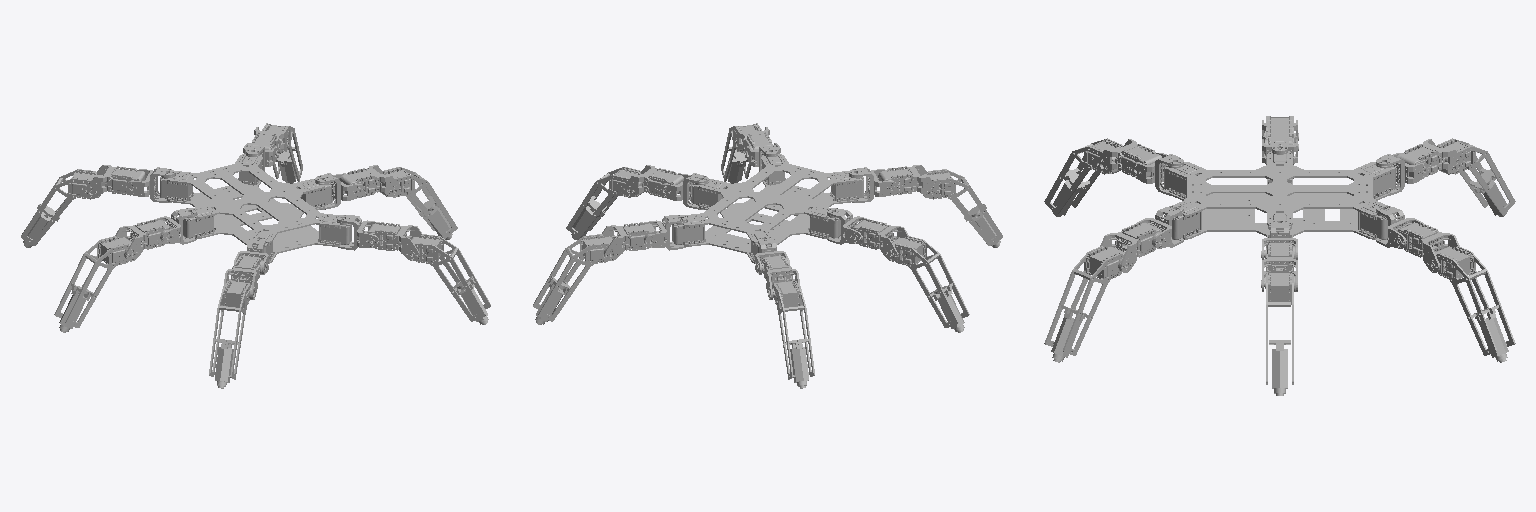
--- Facts derived from the render (not from the file) ---
Views: 3 orthographic renders of the robot side by side, from view 1: azimuth 30°, elevation 25°; view 2: azimuth 150°, elevation 25°; view 3: azimuth 270°, elevation 25°.
Robot: hexapod — 19 links, 18 joints (18 revolute); root link base_link; default pose: all joints at 0.
Visible links, largest first — view 1: base_link, leg6_link3, leg3_link3, leg5_link3, leg4_link3, leg1_link3, leg6_link2, leg3_link2, leg1_link2, leg4_link2, leg2_link3, leg5_link2 (+5 smaller); view 2: base_link, leg2_link3, leg3_link3, leg1_link3, leg4_link3, leg5_link3, leg2_link2, leg3_link2, leg5_link2, leg4_link2, leg6_link3, leg1_link2 (+6 smaller); view 3: base_link, leg6_link3, leg2_link3, leg5_link3, leg1_link3, leg4_link3, leg2_link2, leg6_link2, leg1_link2, leg5_link2, leg4_link2, leg1_link1 (+5 smaller).
Boxes of the visible links, x1,y1,x2,y2 form: base_link: [160, 154, 351, 263]; leg6_link3: [407, 234, 490, 324]; leg3_link3: [54, 236, 133, 332]; leg5_link3: [209, 281, 251, 388]; leg4_link3: [380, 167, 457, 239]; leg1_link3: [21, 169, 104, 247]; leg6_link2: [367, 222, 421, 260]; leg3_link2: [115, 220, 171, 261]; leg1_link2: [85, 165, 144, 198]; leg4_link2: [339, 165, 400, 197]; leg2_link3: [262, 123, 302, 183]; leg5_link2: [223, 256, 262, 299]; base_link: [672, 154, 863, 263]; leg2_link3: [533, 234, 616, 324]; leg3_link3: [892, 236, 969, 332]; leg1_link3: [772, 281, 814, 388]; leg4_link3: [566, 167, 643, 239]; leg5_link3: [918, 169, 1002, 247]; leg2_link2: [602, 222, 656, 260]; leg3_link2: [852, 220, 908, 261]; leg5_link2: [878, 165, 938, 198]; leg4_link2: [623, 165, 683, 197]; leg6_link3: [721, 123, 761, 183]; leg1_link2: [761, 256, 800, 299]; base_link: [1164, 148, 1395, 245]; leg6_link3: [1044, 246, 1127, 362]; leg2_link3: [1435, 246, 1515, 362]; leg5_link3: [1044, 138, 1122, 216]; leg1_link3: [1437, 138, 1515, 216]; leg4_link3: [1266, 273, 1295, 395]; leg2_link2: [1398, 223, 1459, 272]; leg6_link2: [1100, 222, 1161, 272]; leg1_link2: [1397, 139, 1463, 176]; leg5_link2: [1096, 139, 1161, 176]; leg4_link2: [1261, 243, 1297, 291]; leg1_link1: [1376, 153, 1429, 195].
Bounding box of the posed robot: 0.7023 × 0.6361 × 0.1567 m (x, y, z).
Meshes: 19 distinct files referenced, 19 mesh visuals loaded (19 binary STL).

robot.urdf — hexapod:
<?xml version="1.0" encoding="utf-8"?>
<!-- This URDF was automatically created by SolidWorks to URDF Exporter! Originally created by Stephen Brawner ([email redacted]) 
     Commit Version: 1.6.0-1-g15f4949  Build Version: 1.6.7594.29634
     For more information, please see http://wiki.ros.org/sw_urdf_exporter -->
<robot
  name="hexapod">
  <link
    name="base_link">
    <inertial>
      <origin
        xyz="1.49045863671304E-07 -0.000405077975725275 -0.000217578181018556"
        rpy="0 0 0" />
      <mass
        value="0.398507055317104" />
      <inertia
        ixx="0.000856625383676758"
        ixy="5.55539889210267E-08"
        ixz="1.12598154321323E-16"
        iyy="0.000353970607728274"
        iyz="5.54948061423538E-17"
        izz="0.00115428844590398" />
    </inertial>
    <visual>
      <origin
        xyz="0 0 0"
        rpy="0 0 0" />
      <geometry>
        <mesh
          filename="package://hexapod_walk/Hex_URDF2.SLDASM/meshes/base_link.STL" />
      </geometry>
      <material
        name="">
        <color
          rgba="0.752941176470588 0.752941176470588 0.752941176470588 1" />
      </material>
    </visual>
    <collision>
      <origin
        xyz="0 0 0"
        rpy="0 0 0" />
      <geometry>
        <mesh
          filename="package://hexapod_walk/Hex_URDF2.SLDASM/meshes/base_link.STL" />
      </geometry>
    </collision>
  </link>
  <link
    name="leg1_link1">
    <inertial>
      <origin
        xyz="-0.0180170002418232 0.018752535291974 -0.000520098314341614"
        rpy="0 0 0" />
      <mass
        value="0.0153297831154609" />
      <inertia
        ixx="5.1165211847947E-06"
        ixy="-6.44942081162194E-07"
        ixz="-9.75769693975089E-11"
        iyy="5.11678638010929E-06"
        iyz="9.61066359289127E-11"
        izz="4.47171272518642E-06" />
    </inertial>
    <visual>
      <origin
        xyz="0 0 0"
        rpy="0 0 0" />
      <geometry>
        <mesh
          filename="package://hexapod_walk/Hex_URDF2.SLDASM/meshes/leg1_link1.STL" />
      </geometry>
      <material
        name="">
        <color
          rgba="0.752941176470588 0.752941176470588 0.752941176470588 1" />
      </material>
    </visual>
    <collision>
      <origin
        xyz="0 0 0"
        rpy="0 0 0" />
      <geometry>
        <mesh
          filename="package://hexapod_walk/Hex_URDF2.SLDASM/meshes/leg1_link1.STL" />
      </geometry>
    </collision>
  </link>
  <joint
    name="leg1_hip_joint"
    type="revolute">
    <origin
      xyz="-0.07591 0.14091 0"
      rpy="0 0 0" />
    <parent
      link="base_link" />
    <child
      link="leg1_link1" />
    <axis
      xyz="0 0 1" />
    <limit
      lower="-1.57"
      upper="1.57"
      effort="10"
      velocity="100" />
  </joint>
  
  <transmission name="leg1_hip_joint">
    <type>transmission_interface/SimpleTransmission</type>
    <actuator name="$leg1_hip_motor">
      <mechanicalReduction>1</mechanicalReduction>
    </actuator>
    <joint name="leg1_hip_joint">
      <hardwareInterface>PositionJointInterface</hardwareInterface>
    </joint>
  </transmission>
  
  <link
    name="leg1_link2">
    <inertial>
      <origin
        xyz="-0.0144780692009271 0.0138350441980288 -0.00064755576517848"
        rpy="0 0 0" />
      <mass
        value="0.0549729697480829" />
      <inertia
        ixx="1.18174808048987E-05"
        ixy="3.67806190798473E-07"
        ixz="-2.1692108874973E-07"
        iyy="1.15984737913807E-05"
        iyz="2.1728032771257E-07"
        izz="1.65909216038039E-05" />
    </inertial>
    <visual>
      <origin
        xyz="0 0 0"
        rpy="0 0 0" />
      <geometry>
        <mesh
          filename="package://hexapod_walk/Hex_URDF2.SLDASM/meshes/leg1_link2.STL" />
      </geometry>
      <material
        name="">
        <color
          rgba="0.752941176470588 0.752941176470588 0.752941176470588 1" />
      </material>
    </visual>
    <collision>
      <origin
        xyz="0 0 0"
        rpy="0 0 0" />
      <geometry>
        <mesh
          filename="package://hexapod_walk/Hex_URDF2.SLDASM/meshes/leg1_link2.STL" />
      </geometry>
    </collision>
  </link>
  <joint
    name="leg1_knee_joint"
    type="revolute">
    <origin
      xyz="-0.03677 0.03677 0"
      rpy="0 0 0" />
    <parent
      link="leg1_link1" />
    <child
      link="leg1_link2" />
    <axis
      xyz="-0.70711 -0.70711 0" />
    <limit
      lower="-1.57"
      upper="1.57"
      effort="10"
      velocity="100" />
  </joint>
  
  <transmission name="leg1_knee_joint">
    <type>transmission_interface/SimpleTransmission</type>
    <actuator name="$leg1_knee_joint">
      <mechanicalReduction>1</mechanicalReduction>
    </actuator>
    <joint name="leg1_knee_joint">
      <hardwareInterface>PositionJointInterface</hardwareInterface>
    </joint>
  </transmission>
  
  <link
    name="leg1_link3">
    <inertial>
      <origin
        xyz="-0.0308004685179728 0.0302080850392637 -0.0292125400897702"
        rpy="0 0 0" />
      <mass
        value="0.0782413429576377" />
      <inertia
        ixx="3.25063556942522E-05"
        ixy="6.21445767713284E-06"
        ixz="-7.5922039407356E-06"
        iyy="3.22872779020944E-05"
        iyz="7.59259502067018E-06"
        izz="2.34916838689469E-05" />
    </inertial>
    <visual>
      <origin
        xyz="0 0 0"
        rpy="0 0 0" />
      <geometry>
        <mesh
          filename="package://hexapod_walk/Hex_URDF2.SLDASM/meshes/leg1_link3.STL" />
      </geometry>
      <material
        name="">
        <color
          rgba="0.752941176470588 0.752941176470588 0.752941176470588 1" />
      </material>
    </visual>
    <collision>
      <origin
        xyz="0 0 0"
        rpy="0 0 0" />
      <geometry>
        <mesh
          filename="package://hexapod_walk/Hex_URDF2.SLDASM/meshes/leg1_link3.STL" />
      </geometry>
    </collision>
  </link>
  <joint
    name="Leg1_ankle_joint"
    type="revolute">
    <origin
      xyz="-0.045608 0.045608 -0.0145"
      rpy="0 0 0" />
    <parent
      link="leg1_link2" />
    <child
      link="leg1_link3" />
    <axis
      xyz="-0.70711 -0.70711 0" />
    <limit
      lower="-3.14"
      upper="3.14"
      effort="10"
      velocity="100" />
  </joint>
  
  <transmission name="Leg1_ankle_joint">
    <type>transmission_interface/SimpleTransmission</type>
    <actuator name="$Leg1_ankle_joint">
      <mechanicalReduction>1</mechanicalReduction>
    </actuator>
    <joint name="Leg1_ankle_joint">
      <hardwareInterface>PositionJointInterface</hardwareInterface>
    </joint>
  </transmission>
  
  <link
    name="leg2_link1">
    <inertial>
      <origin
        xyz="0.018752535291974 0.0180170002418231 -0.000520098314341594"
        rpy="0 0 0" />
      <mass
        value="0.0153297831154608" />
      <inertia
        ixx="5.11678638010928E-06"
        ixy="6.44942081162191E-07"
        ixz="9.61066359301862E-11"
        iyy="5.11652118479468E-06"
        iyz="9.75769693992677E-11"
        izz="4.47171272518641E-06" />
    </inertial>
    <visual>
      <origin
        xyz="0 0 0"
        rpy="0 0 0" />
      <geometry>
        <mesh
          filename="package://hexapod_walk/Hex_URDF2.SLDASM/meshes/leg2_link1.STL" />
      </geometry>
      <material
        name="">
        <color
          rgba="0.752941176470588 0.752941176470588 0.752941176470588 1" />
      </material>
    </visual>
    <collision>
      <origin
        xyz="0 0 0"
        rpy="0 0 0" />
      <geometry>
        <mesh
          filename="package://hexapod_walk/Hex_URDF2.SLDASM/meshes/leg2_link1.STL" />
      </geometry>
    </collision>
  </link>
  <joint
    name="leg2_hip_joint"
    type="revolute">
    <origin
      xyz="0.07591 0.14091 0"
      rpy="0 0 0" />
    <parent
      link="base_link" />
    <child
      link="leg2_link1" />
    <axis
      xyz="0 0 1" />
    <limit
      lower="-1.57"
      upper="1.57"
      effort="10"
      velocity="100" />
  </joint>
  <link
    name="leg2_link2">
    <inertial>
      <origin
        xyz="0.0138350441980606 0.0144780692008938 -0.00064755576516918"
        rpy="0 0 0" />
      <mass
        value="0.0549729697479026" />
      <inertia
        ixx="1.15984737913327E-05"
        ixy="-3.67806190810311E-07"
        ixz="2.17280327715239E-07"
        iyy="1.18174808048933E-05"
        iyz="2.16921088739434E-07"
        izz="1.65909216037551E-05" />
    </inertial>
    <visual>
      <origin
        xyz="0 0 0"
        rpy="0 0 0" />
      <geometry>
        <mesh
          filename="package://hexapod_walk/Hex_URDF2.SLDASM/meshes/leg2_link2.STL" />
      </geometry>
      <material
        name="">
        <color
          rgba="0.752941176470588 0.752941176470588 0.752941176470588 1" />
      </material>
    </visual>
    <collision>
      <origin
        xyz="0 0 0"
        rpy="0 0 0" />
      <geometry>
        <mesh
          filename="package://hexapod_walk/Hex_URDF2.SLDASM/meshes/leg2_link2.STL" />
      </geometry>
    </collision>
  </link>
  <joint
    name="leg2_knee_joint"
    type="revolute">
    <origin
      xyz="0.03677 0.03677 0"
      rpy="0 0 0" />
    <parent
      link="leg2_link1" />
    <child
      link="leg2_link2" />
    <axis
      xyz="-0.70711 0.70711 0" />
    <limit
      lower="-1.57"
      upper="1.57"
      effort="10"
      velocity="100" />
  </joint>
  <link
    name="leg2_link3">
    <inertial>
      <origin
        xyz="0.0302080850389893 0.0308004685179082 -0.0292125400894977"
        rpy="0 0 0" />
      <mass
        value="0.0782413429584607" />
      <inertia
        ixx="3.22872779023119E-05"
        ixy="-6.21445767707829E-06"
        ixz="7.59259502065884E-06"
        iyy="3.25063556942754E-05"
        iyz="7.59220394077899E-06"
        izz="2.34916838691698E-05" />
    </inertial>
    <visual>
      <origin
        xyz="0 0 0"
        rpy="0 0 0" />
      <geometry>
        <mesh
          filename="package://hexapod_walk/Hex_URDF2.SLDASM/meshes/leg2_link3.STL" />
      </geometry>
      <material
        name="">
        <color
          rgba="0.752941176470588 0.752941176470588 0.752941176470588 1" />
      </material>
    </visual>
    <collision>
      <origin
        xyz="0 0 0"
        rpy="0 0 0" />
      <geometry>
        <mesh
          filename="package://hexapod_walk/Hex_URDF2.SLDASM/meshes/leg2_link3.STL" />
      </geometry>
    </collision>
  </link>
  <joint
    name="leg2_ankle_joint"
    type="revolute">
    <origin
      xyz="0.045608 0.045608 -0.0145"
      rpy="0 0 0" />
    <parent
      link="leg2_link2" />
    <child
      link="leg2_link3" />
    <axis
      xyz="-0.70711 0.70711 0" />
    <limit
      lower="-3.14"
      upper="3.14"
      effort="10"
      velocity="100" />
  </joint>
  <link
    name="leg3_link1">
    <inertial>
      <origin
        xyz="-0.026 0.000520101604945172 -0.000520101604945146"
        rpy="0 0 0" />
      <mass
        value="0.0153297863111444" />
      <inertia
        ixx="5.76159700021673E-06"
        ixy="-1.33937113498178E-10"
        ixz="-1.33937113502503E-10"
        iyy="4.47171287798139E-06"
        iyz="-1.03431026995556E-12"
        izz="4.4717128779814E-06" />
    </inertial>
    <visual>
      <origin
        xyz="0 0 0"
        rpy="0 0 0" />
      <geometry>
        <mesh
          filename="package://hexapod_walk/Hex_URDF2.SLDASM/meshes/leg3_link1.STL" />
      </geometry>
      <material
        name="">
        <color
          rgba="0.752941176470588 0.752941176470588 0.752941176470588 1" />
      </material>
    </visual>
    <collision>
      <origin
        xyz="0 0 0"
        rpy="0 0 0" />
      <geometry>
        <mesh
          filename="package://hexapod_walk/Hex_URDF2.SLDASM/meshes/leg3_link1.STL" />
      </geometry>
    </collision>
  </link>
  <joint
    name="leg3_hip_joint"
    type="revolute">
    <origin
      xyz="-0.1185 0 0"
      rpy="0 0 0" />
    <parent
      link="base_link" />
    <child
      link="leg3_link1" />
    <axis
      xyz="0 0 1" />
    <limit
      lower="-1.57"
      upper="1.57"
      effort="10"
      velocity="100" />
  </joint>
  <link
    name="leg3_link2">
    <inertial>
      <origin
        xyz="-0.0200203964915778 -0.000454687553514402 -0.000647555723906074"
        rpy="0 0 0" />
      <mass
        value="0.0549729722433595" />
      <inertia
        ixx="1.13401714795433E-05"
        ixy="1.09504660286705E-07"
        ixz="-3.07027660826979E-07"
        iyy="1.20757854156115E-05"
        iyz="2.54106080190521E-10"
        izz="1.65909234944678E-05" />
    </inertial>
    <visual>
      <origin
        xyz="0 0 0"
        rpy="0 0 0" />
      <geometry>
        <mesh
          filename="package://hexapod_walk/Hex_URDF2.SLDASM/meshes/leg3_link2.STL" />
      </geometry>
      <material
        name="">
        <color
          rgba="0.752941176470588 0.752941176470588 0.752941176470588 1" />
      </material>
    </visual>
    <collision>
      <origin
        xyz="0 0 0"
        rpy="0 0 0" />
      <geometry>
        <mesh
          filename="package://hexapod_walk/Hex_URDF2.SLDASM/meshes/leg3_link2.STL" />
      </geometry>
    </collision>
  </link>
  <joint
    name="leg3_knee_joint"
    type="revolute">
    <origin
      xyz="-0.052 0 0"
      rpy="0 0 0" />
    <parent
      link="leg3_link1" />
    <child
      link="leg3_link2" />
    <axis
      xyz="0 -1 0" />
    <limit
      lower="-1.57"
      upper="1.57"
      effort="10"
      velocity="100" />
  </joint>
  <link
    name="leg3_link3">
    <inertial>
      <origin
        xyz="-0.0431395612339868 -0.000418878563802687 -0.0292125392221891"
        rpy="0 0 0" />
      <mass
        value="0.078241345239874" />
      <inertia
        ixx="2.6182359398591E-05"
        ixy="1.09538829469454E-07"
        ixz="-1.07372743970462E-05"
        iyy="3.86112746018646E-05"
        iyz="2.76580343056706E-10"
        izz="2.34916839705898E-05" />
    </inertial>
    <visual>
      <origin
        xyz="0 0 0"
        rpy="0 0 0" />
      <geometry>
        <mesh
          filename="package://hexapod_walk/Hex_URDF2.SLDASM/meshes/leg3_link3.STL" />
      </geometry>
      <material
        name="">
        <color
          rgba="0.752941176470588 0.752941176470588 0.752941176470588 1" />
      </material>
    </visual>
    <collision>
      <origin
        xyz="0 0 0"
        rpy="0 0 0" />
      <geometry>
        <mesh
          filename="package://hexapod_walk/Hex_URDF2.SLDASM/meshes/leg3_link3.STL" />
      </geometry>
    </collision>
  </link>
  <joint
    name="leg3_ankle_joint"
    type="revolute">
    <origin
      xyz="-0.0645 0 -0.0145"
      rpy="0 0 0" />
    <parent
      link="leg3_link2" />
    <child
      link="leg3_link3" />
    <axis
      xyz="0 -1 0" />
    <limit
      lower="-3.14"
      upper="3.14"
      effort="10"
      velocity="100" />
  </joint>
  <link
    name="leg4_link1">
    <inertial>
      <origin
        xyz="0.026 -0.000520101604945103 -0.00052010160494517"
        rpy="0 0 0" />
      <mass
        value="0.0153297863111444" />
      <inertia
        ixx="5.76159700021672E-06"
        ixy="-1.3393711350125E-10"
        ixz="1.33937113498044E-10"
        iyy="4.47171287798138E-06"
        iyz="1.034310271549E-12"
        izz="4.47171287798139E-06" />
    </inertial>
    <visual>
      <origin
        xyz="0 0 0"
        rpy="0 0 0" />
      <geometry>
        <mesh
          filename="package://hexapod_walk/Hex_URDF2.SLDASM/meshes/leg4_link1.STL" />
      </geometry>
      <material
        name="">
        <color
          rgba="0.752941176470588 0.752941176470588 0.752941176470588 1" />
      </material>
    </visual>
    <collision>
      <origin
        xyz="0 0 0"
        rpy="0 0 0" />
      <geometry>
        <mesh
          filename="package://hexapod_walk/Hex_URDF2.SLDASM/meshes/leg4_link1.STL" />
      </geometry>
    </collision>
  </link>
  <joint
    name="leg4_hip_joint"
    type="revolute">
    <origin
      xyz="0.1185 0 0"
      rpy="0 0 0" />
    <parent
      link="base_link" />
    <child
      link="leg4_link1" />
    <axis
      xyz="0 0 1" />
    <limit
      lower="-1.57"
      upper="1.57"
      effort="10"
      velocity="100" />
  </joint>
  <link
    name="leg4_link2">
    <inertial>
      <origin
        xyz="0.0200203964915875 0.000454687553747234 -0.000647555723945525"
        rpy="0 0 0" />
      <mass
        value="0.0549729722442632" />
      <inertia
        ixx="1.13401714797357E-05"
        ixy="1.09504660177115E-07"
        ixz="3.07027660850785E-07"
        iyy="1.2075785415685E-05"
        iyz="-2.54106040126059E-10"
        izz="1.65909234947172E-05" />
    </inertial>
    <visual>
      <origin
        xyz="0 0 0"
        rpy="0 0 0" />
      <geometry>
        <mesh
          filename="package://hexapod_walk/Hex_URDF2.SLDASM/meshes/leg4_link2.STL" />
      </geometry>
      <material
        name="">
        <color
          rgba="0.752941176470588 0.752941176470588 0.752941176470588 1" />
      </material>
    </visual>
    <collision>
      <origin
        xyz="0 0 0"
        rpy="0 0 0" />
      <geometry>
        <mesh
          filename="package://hexapod_walk/Hex_URDF2.SLDASM/meshes/leg4_link2.STL" />
      </geometry>
    </collision>
  </link>
  <joint
    name="leg4_knee_joint"
    type="revolute">
    <origin
      xyz="0.052 0 0"
      rpy="0 0 0" />
    <parent
      link="leg4_link1" />
    <child
      link="leg4_link2" />
    <axis
      xyz="0 1 0" />
    <limit
      lower="-1.57"
      upper="1.57"
      effort="10"
      velocity="100" />
  </joint>
  <link
    name="leg4_link3">
    <inertial>
      <origin
        xyz="0.0431395612339866 0.000418878563802751 -0.0292125392221895"
        rpy="0 0 0" />
      <mass
        value="0.0782413452398741" />
      <inertia
        ixx="2.61823593985911E-05"
        ixy="1.09538829469438E-07"
        ixz="1.07372743970462E-05"
        iyy="3.86112746018646E-05"
        iyz="-2.76580343047457E-10"
        izz="2.34916839705897E-05" />
    </inertial>
    <visual>
      <origin
        xyz="0 0 0"
        rpy="0 0 0" />
      <geometry>
        <mesh
          filename="package://hexapod_walk/Hex_URDF2.SLDASM/meshes/leg4_link3.STL" />
      </geometry>
      <material
        name="">
        <color
          rgba="0.752941176470588 0.752941176470588 0.752941176470588 1" />
      </material>
    </visual>
    <collision>
      <origin
        xyz="0 0 0"
        rpy="0 0 0" />
      <geometry>
        <mesh
          filename="package://hexapod_walk/Hex_URDF2.SLDASM/meshes/leg4_link3.STL" />
      </geometry>
    </collision>
  </link>
  <joint
    name="leg4_ankle_joint"
    type="revolute">
    <origin
      xyz="0.0645 0 -0.0145"
      rpy="0 0 0" />
    <parent
      link="leg4_link2" />
    <child
      link="leg4_link3" />
    <axis
      xyz="0 1 0" />
    <limit
      lower="-3.14"
      upper="3.14"
      effort="10"
      velocity="100" />
  </joint>
  <link
    name="leg5_link1">
    <inertial>
      <origin
        xyz="-0.018752535291974 -0.0180170002418232 -0.000520098314341616"
        rpy="0 0 0" />
      <mass
        value="0.0153297831154609" />
      <inertia
        ixx="5.1167863801093E-06"
        ixy="6.44942081162198E-07"
        ixz="-9.61066359294356E-11"
        iyy="5.1165211847947E-06"
        iyz="-9.75769694017169E-11"
        izz="4.47171272518644E-06" />
    </inertial>
    <visual>
      <origin
        xyz="0 0 0"
        rpy="0 0 0" />
      <geometry>
        <mesh
          filename="package://hexapod_walk/Hex_URDF2.SLDASM/meshes/leg5_link1.STL" />
      </geometry>
      <material
        name="">
        <color
          rgba="0.752941176470588 0.752941176470588 0.752941176470588 1" />
      </material>
    </visual>
    <collision>
      <origin
        xyz="0 0 0"
        rpy="0 0 0" />
      <geometry>
        <mesh
          filename="package://hexapod_walk/Hex_URDF2.SLDASM/meshes/leg5_link1.STL" />
      </geometry>
    </collision>
  </link>
  <joint
    name="leg5_hip_joint"
    type="revolute">
    <origin
      xyz="-0.07591 -0.14091 0"
      rpy="0 0 0" />
    <parent
      link="base_link" />
    <child
      link="leg5_link1" />
    <axis
      xyz="0 0 1" />
    <limit
      lower="-1.57"
      upper="1.57"
      effort="10"
      velocity="100" />
  </joint>
  <link
    name="leg5_link2">
    <inertial>
      <origin
        xyz="-0.013835044198145 -0.0144780692008077 -0.000647555765154906"
        rpy="0 0 0" />
      <mass
        value="0.0549729697474317" />
      <inertia
        ixx="1.15984737912137E-05"
        ixy="-3.67806190842368E-07"
        ixz="-2.17280327720159E-07"
        iyy="1.18174808048828E-05"
        iyz="-2.16921088721814E-07"
        izz="1.65909216036291E-05" />
    </inertial>
    <visual>
      <origin
        xyz="0 0 0"
        rpy="0 0 0" />
      <geometry>
        <mesh
          filename="package://hexapod_walk/Hex_URDF2.SLDASM/meshes/leg5_link2.STL" />
      </geometry>
      <material
        name="">
        <color
          rgba="0.752941176470588 0.752941176470588 0.752941176470588 1" />
      </material>
    </visual>
    <collision>
      <origin
        xyz="0 0 0"
        rpy="0 0 0" />
      <geometry>
        <mesh
          filename="package://hexapod_walk/Hex_URDF2.SLDASM/meshes/leg5_link2.STL" />
      </geometry>
    </collision>
  </link>
  <joint
    name="leg5_knee_joint"
    type="revolute">
    <origin
      xyz="-0.03677 -0.03677 0"
      rpy="0 0 0" />
    <parent
      link="leg5_link1" />
    <child
      link="leg5_link2" />
    <axis
      xyz="0.70711 -0.70711 0" />
    <limit
      lower="-1.57"
      upper="1.57"
      effort="10"
      velocity="100" />
  </joint>
  <link
    name="leg5_link3">
    <inertial>
      <origin
        xyz="-0.0302080850392637 -0.0308004685179728 -0.0292125400897712"
        rpy="0 0 0" />
      <mass
        value="0.0782413429576375" />
      <inertia
        ixx="3.22872779020944E-05"
        ixy="-6.21445767713289E-06"
        ixz="-7.5925950206702E-06"
        iyy="3.25063556942522E-05"
        iyz="-7.59220394073565E-06"
        izz="2.34916838689469E-05" />
    </inertial>
    <visual>
      <origin
        xyz="0 0 0"
        rpy="0 0 0" />
      <geometry>
        <mesh
          filename="package://hexapod_walk/Hex_URDF2.SLDASM/meshes/leg5_link3.STL" />
      </geometry>
      <material
        name="">
        <color
          rgba="0.752941176470588 0.752941176470588 0.752941176470588 1" />
      </material>
    </visual>
    <collision>
      <origin
        xyz="0 0 0"
        rpy="0 0 0" />
      <geometry>
        <mesh
          filename="package://hexapod_walk/Hex_URDF2.SLDASM/meshes/leg5_link3.STL" />
      </geometry>
    </collision>
  </link>
  <joint
    name="leg5_ankle_joint"
    type="revolute">
    <origin
      xyz="-0.045608 -0.045608 -0.0145"
      rpy="0 0 0" />
    <parent
      link="leg5_link2" />
    <child
      link="leg5_link3" />
    <axis
      xyz="0.70711 -0.70711 0" />
    <limit
      lower="-3.14"
      upper="3.14"
      effort="10"
      velocity="100" />
  </joint>
  <link
    name="leg6_link1">
    <inertial>
      <origin
        xyz="0.0180170002418231 -0.018752535291974 -0.000520098314341631"
        rpy="0 0 0" />
      <mass
        value="0.0153297831154609" />
      <inertia
        ixx="5.1165211847947E-06"
        ixy="-6.44942081162196E-07"
        ixz="9.75769693912802E-11"
        iyy="5.1167863801093E-06"
        iyz="-9.61066359196518E-11"
        izz="4.47171272518643E-06" />
    </inertial>
    <visual>
      <origin
        xyz="0 0 0"
        rpy="0 0 0" />
      <geometry>
        <mesh
          filename="package://hexapod_walk/Hex_URDF2.SLDASM/meshes/leg6_link1.STL" />
      </geometry>
      <material
        name="">
        <color
          rgba="0.752941176470588 0.752941176470588 0.752941176470588 1" />
      </material>
    </visual>
    <collision>
      <origin
        xyz="0 0 0"
        rpy="0 0 0" />
      <geometry>
        <mesh
          filename="package://hexapod_walk/Hex_URDF2.SLDASM/meshes/leg6_link1.STL" />
      </geometry>
    </collision>
  </link>
  <joint
    name="leg6_hip_joint"
    type="revolute">
    <origin
      xyz="0.07591 -0.14091 0"
      rpy="0 0 0" />
    <parent
      link="base_link" />
    <child
      link="leg6_link1" />
    <axis
      xyz="0 0 1" />
    <limit
      lower="-1.57"
      upper="1.57"
      effort="10"
      velocity="100" />
  </joint>
  <link
    name="leg6_link2">
    <inertial>
      <origin
        xyz="0.0144780692007814 -0.0138350441981685 -0.000647555765141287"
        rpy="0 0 0" />
      <mass
        value="0.0549729697472944" />
      <inertia
        ixx="1.18174808048764E-05"
        ixy="3.67806190850972E-07"
        ixz="2.16921088708507E-07"
        iyy="1.15984737911731E-05"
        iyz="-2.17280327723447E-07"
        izz="1.65909216035909E-05" />
    </inertial>
    <visual>
      <origin
        xyz="0 0 0"
        rpy="0 0 0" />
      <geometry>
        <mesh
          filename="package://hexapod_walk/Hex_URDF2.SLDASM/meshes/leg6_link2.STL" />
      </geometry>
      <material
        name="">
        <color
          rgba="0.752941176470588 0.752941176470588 0.752941176470588 1" />
      </material>
    </visual>
    <collision>
      <origin
        xyz="0 0 0"
        rpy="0 0 0" />
      <geometry>
        <mesh
          filename="package://hexapod_walk/Hex_URDF2.SLDASM/meshes/leg6_link2.STL" />
      </geometry>
    </collision>
  </link>
  <joint
    name="leg6_knee_joint"
    type="revolute">
    <origin
      xyz="0.03677 -0.03677 0"
      rpy="0 0 0" />
    <parent
      link="leg6_link1" />
    <child
      link="leg6_link2" />
    <axis
      xyz="0.70711 0.70711 0" />
    <limit
      lower="-1.57"
      upper="1.57"
      effort="10"
      velocity="100" />
  </joint>
  <link
    name="leg6_link3">
    <inertial>
      <origin
        xyz="-0.158287971511079 0.223162858661374 -0.00168030397402165"
        rpy="0 0 0" />
      <mass
        value="1.28977188145212" />
      <inertia
        ixx="0.0354475272652807"
        ixy="-1.21250652432617E-05"
        ixz="6.35354274752678E-11"
        iyy="0.0360848028953241"
        iyz="-1.72677212057566E-07"
        izz="0.0687120716801501" />
    </inertial>
    <visual>
      <origin
        xyz="0 0 0"
        rpy="0 0 0" />
      <geometry>
        <mesh
          filename="package://hexapod_walk/Hex_URDF2.SLDASM/meshes/leg6_link3.STL" />
      </geometry>
      <material
        name="">
        <color
          rgba="0.752941176470588 0.752941176470588 0.752941176470588 1" />
      </material>
    </visual>
    <collision>
      <origin
        xyz="0 0 0"
        rpy="0 0 0" />
      <geometry>
        <mesh
          filename="package://hexapod_walk/Hex_URDF2.SLDASM/meshes/leg6_link3.STL" />
      </geometry>
    </collision>
  </link>
  <joint
    name="leg6_ankle_joint"
    type="revolute">
    <origin
      xyz="0.045608 -0.045608 -0.0145"
      rpy="0 0 0" />
    <parent
      link="leg6_link2" />
    <child
      link="leg6_link3" />
    <axis
      xyz="0.70711 0.70711 0" />
    <limit
      lower="-3.14"
      upper="3.14"
      effort="10"
      velocity="100" />
  </joint>
  
  <gazebo>
    <plugin name="gazebo_ros_control" filename="libgazebo_ros_control.so">
      <robotNamespace>/</robotNamespace>
    </plugin>
  </gazebo>
</robot>
